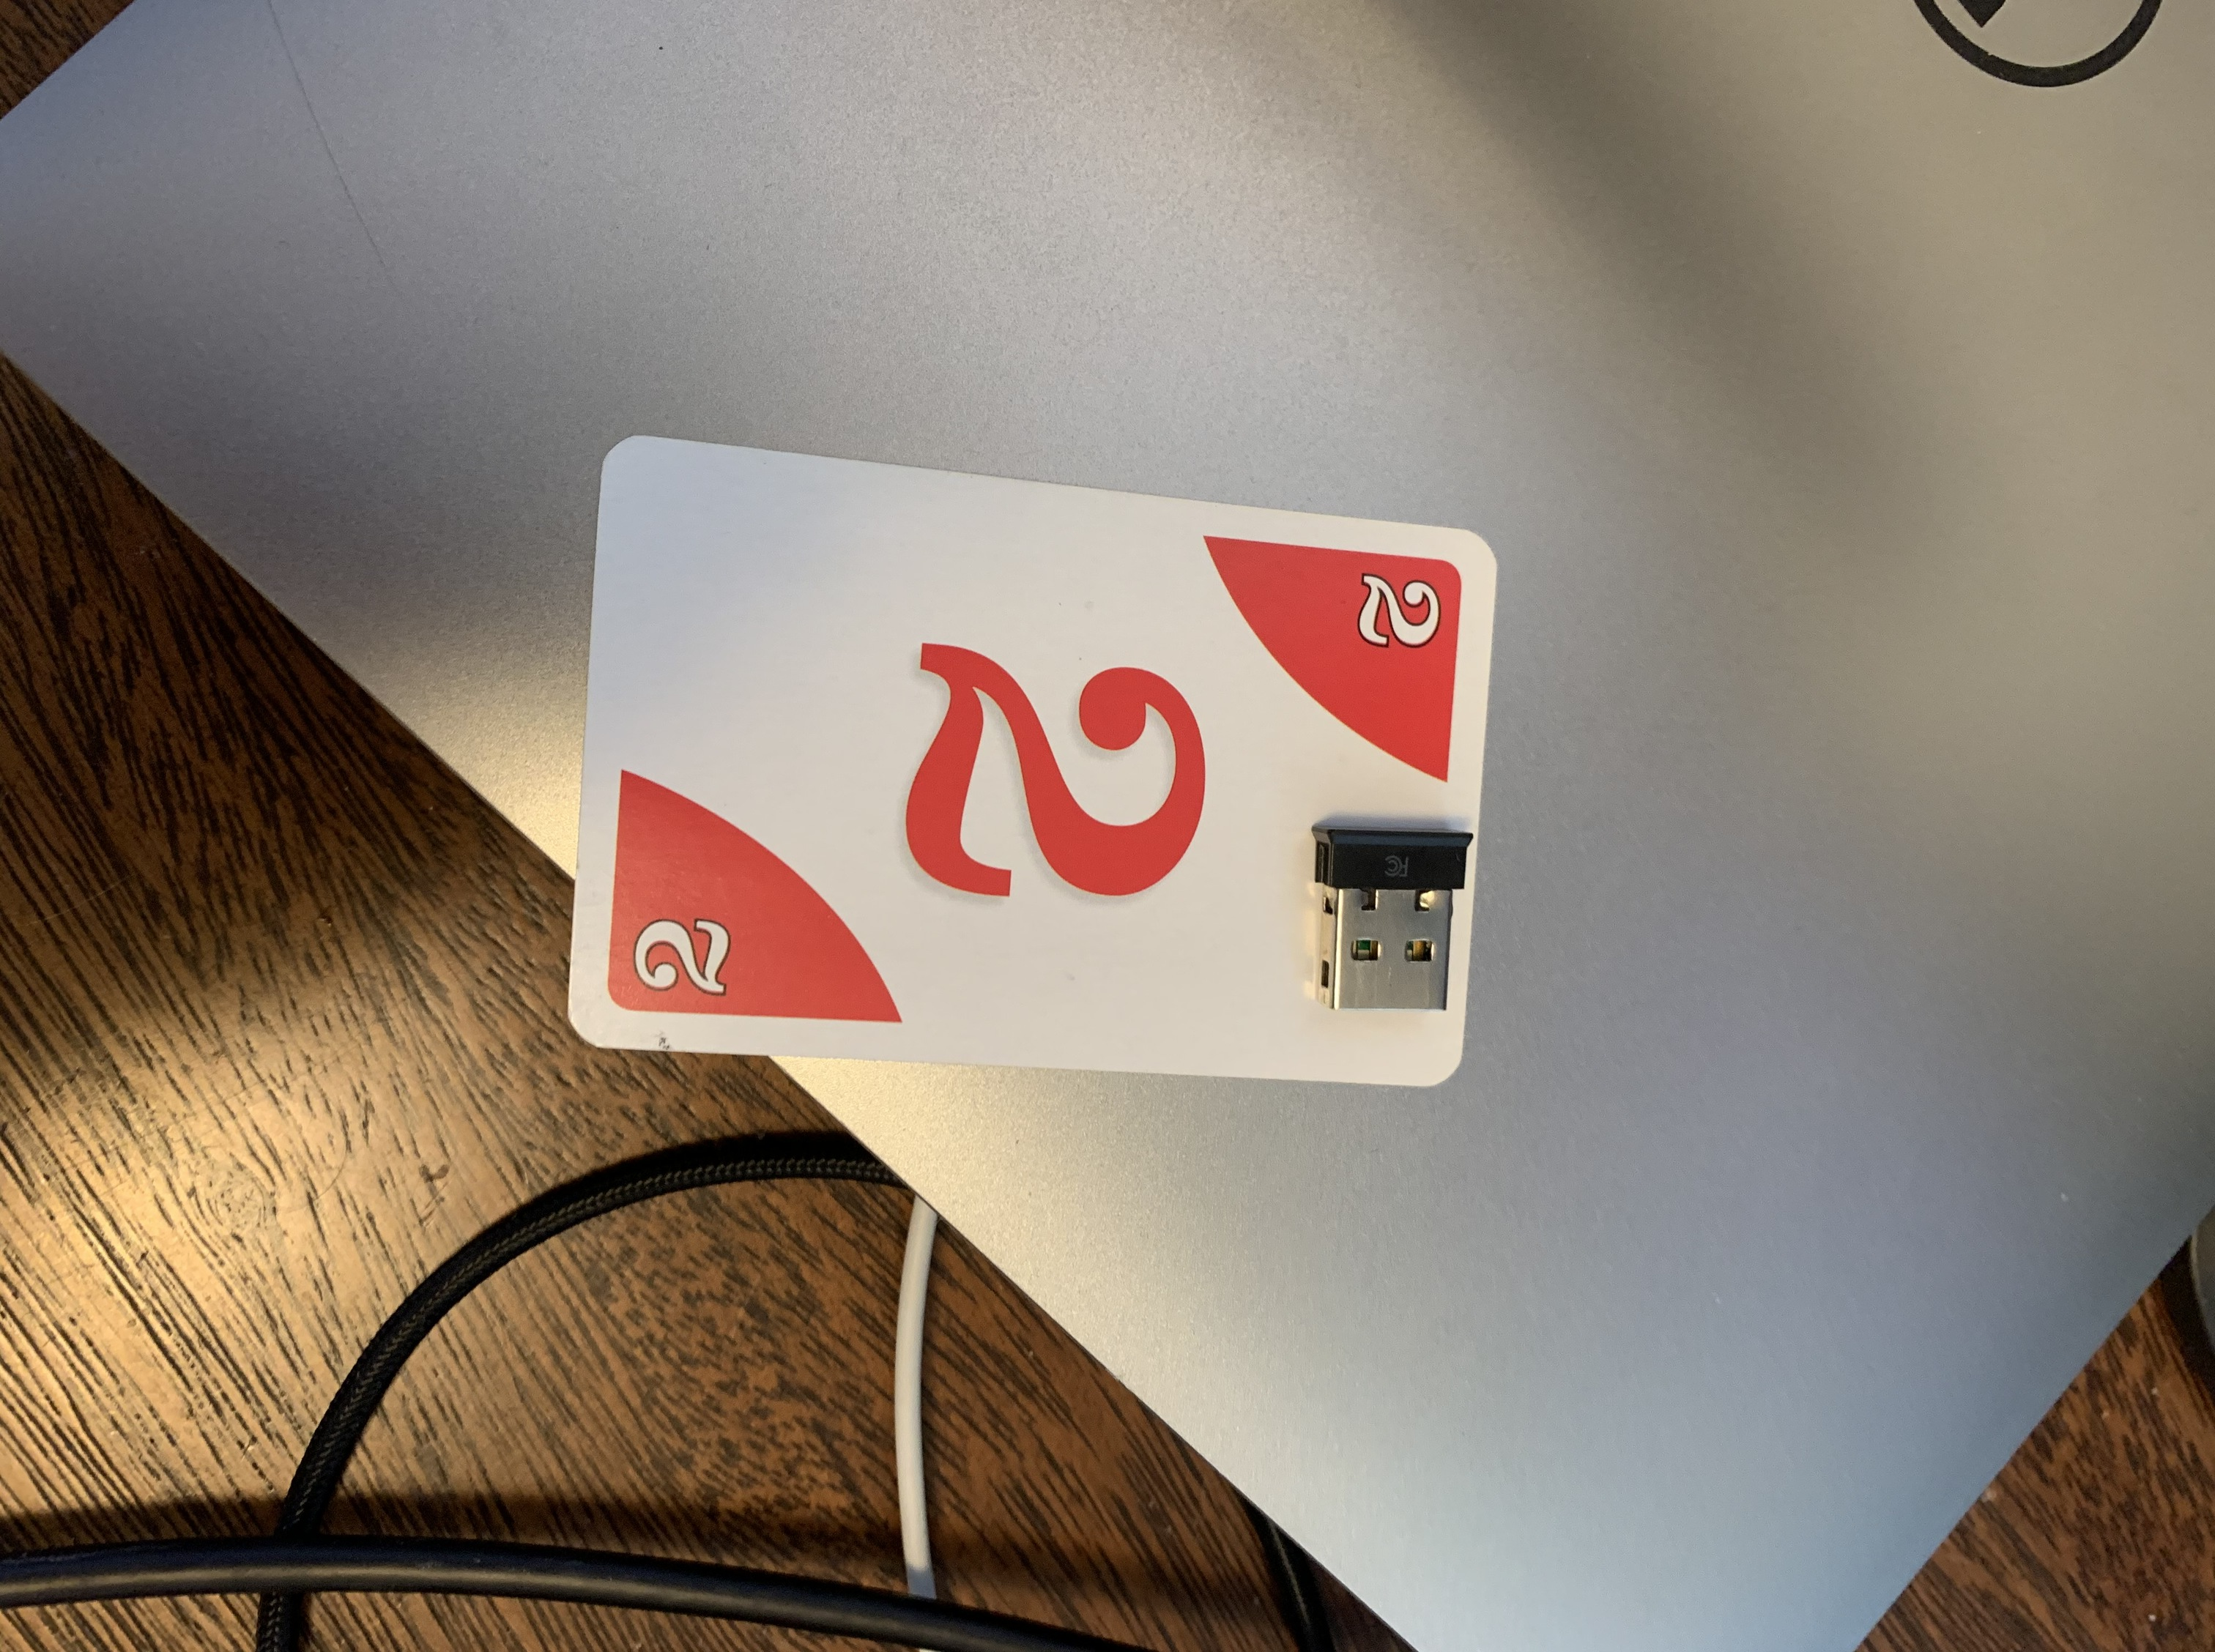two: (547, 425, 1519, 1142)
